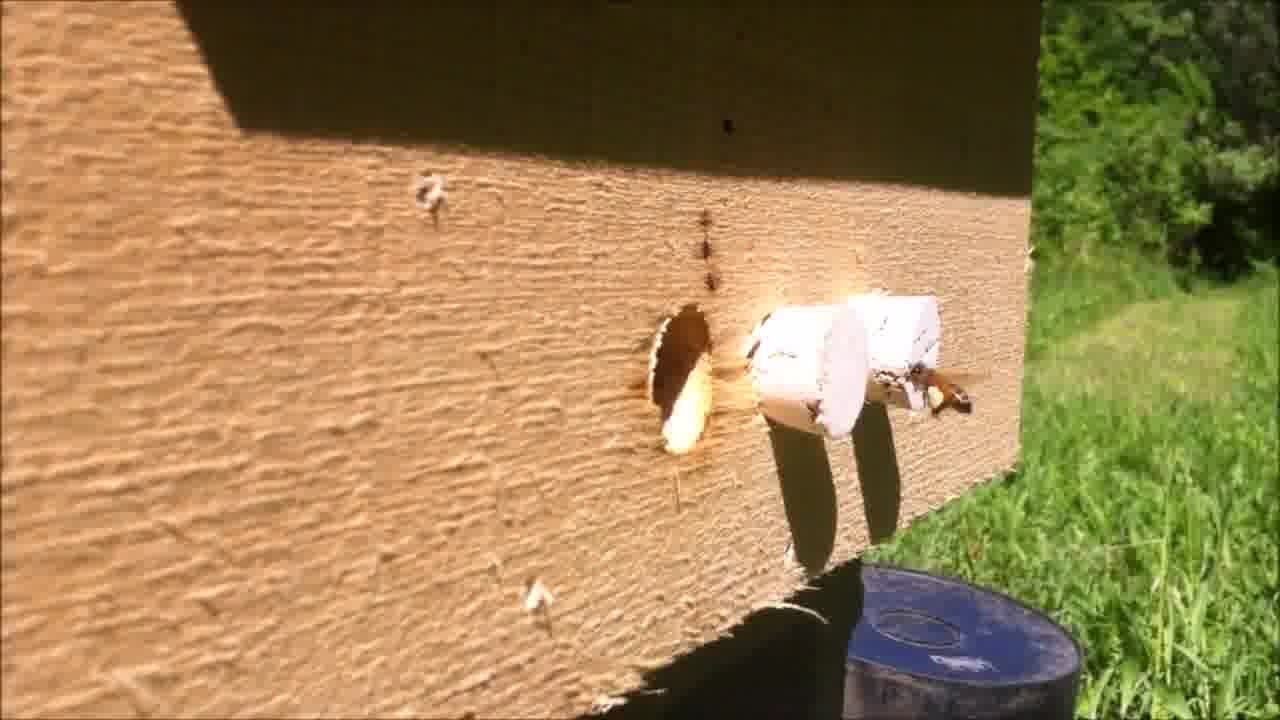pollen: (904, 364, 979, 419)
